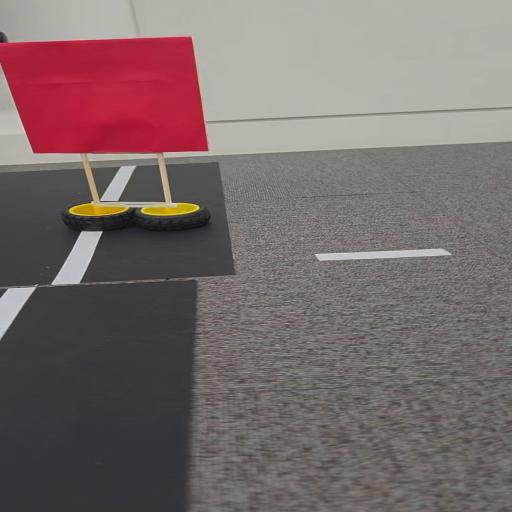Sign_A: (0, 38, 228, 232)
